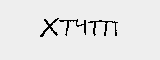П: (100, 20, 120, 37)
Т: (58, 17, 76, 36), (86, 16, 104, 35)
Х: (38, 16, 59, 37)
Ч: (73, 17, 87, 37)
